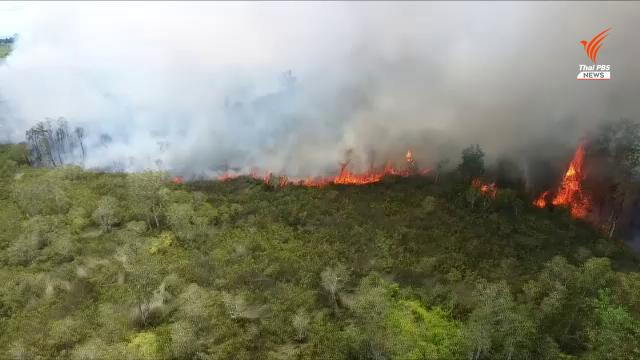fire: (218, 139, 434, 199), (528, 133, 614, 234), (336, 144, 401, 200), (469, 168, 512, 206)
